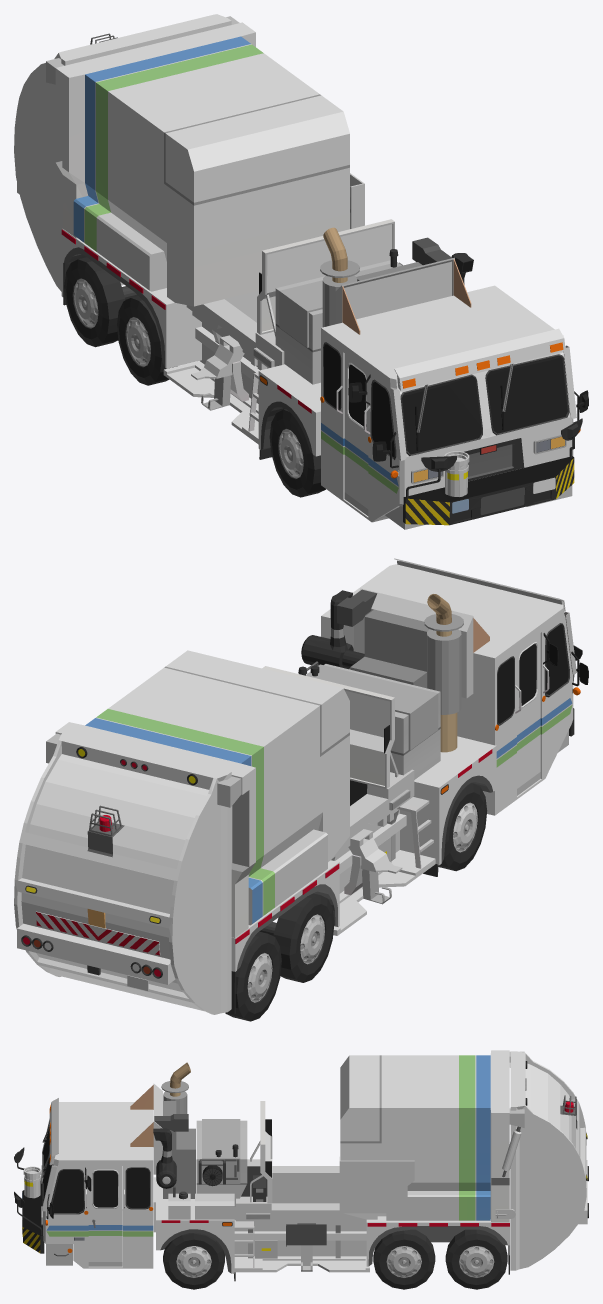
The model's file is trash-truck-side-loading.glb.
3 renders of one model, top to bottom at view 1: azimuth 30°, elevation 25°; view 2: azimuth 150°, elevation 25°; view 3: azimuth 270°, elevation 25°, orthographic. The views are drawn at different scales.
Visible parts, largest first — view 1: trash-truck-side-loading; view 2: trash-truck-side-loading; view 3: trash-truck-side-loading.
Boxes of the visible parts, left/top/right/bottom form: trash-truck-side-loading: left=14, top=14, right=588, bottom=529; trash-truck-side-loading: left=14, top=558, right=588, bottom=1021; trash-truck-side-loading: left=14, top=1050, right=588, bottom=1289.
Bounding box in the file's own units: 3.02 × 3.52 × 10.1.
Materials: 2 (1 with a texture image).
